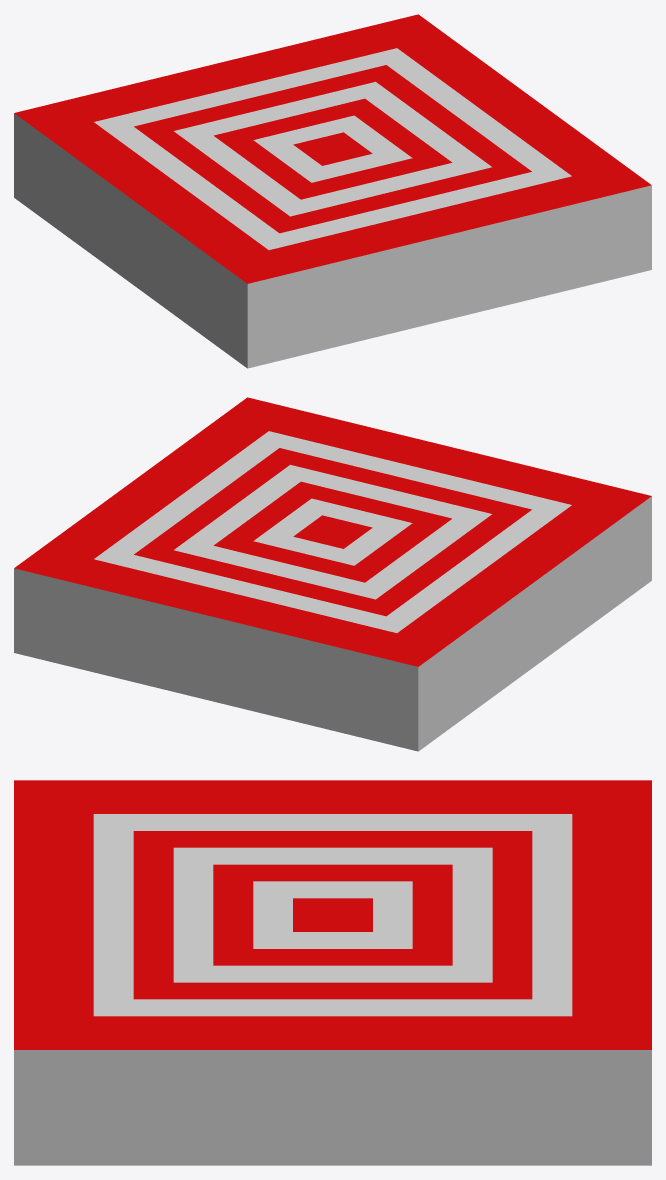
The model's file is LandingPlatform.fbx.
The picture shows the model from 3 angles, top to bottom: view 1: azimuth 30°, elevation 25°; view 2: azimuth 150°, elevation 25°; view 3: azimuth 270°, elevation 25°; orthographic projection. The views are drawn at different scales.
Parts seen in each view (by area): view 1: Cube; view 2: Cube; view 3: Cube.
Boxes of the visible parts, x1=… form: Cube: x1=14, y1=14, x2=651, y2=368; Cube: x1=14, y1=397, x2=651, y2=751; Cube: x1=14, y1=780, x2=651, y2=1165.
Bounding box in the file's own units: 1000 × 200 × 1000.
